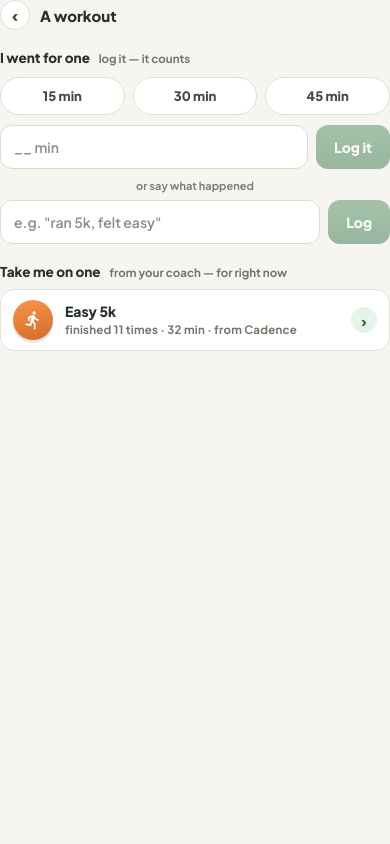
Scenario: QuickAddTense — the routines shelf › a failed session fetch shows the row-level honest line and logs nothing — never "no session"
The image size is (390, 844).
Click the text "Easy 5k" at [91, 311], box [65,302,116,320]
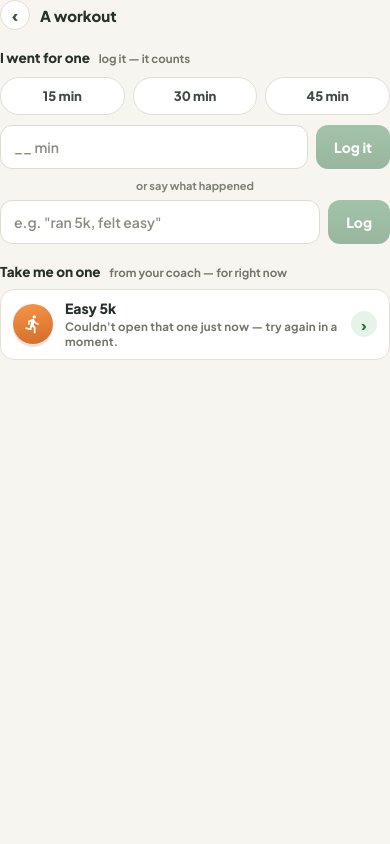
expect the text "Couldn't open that one just now — try again in a moment." is shown: met, box [65,318,339,348]
